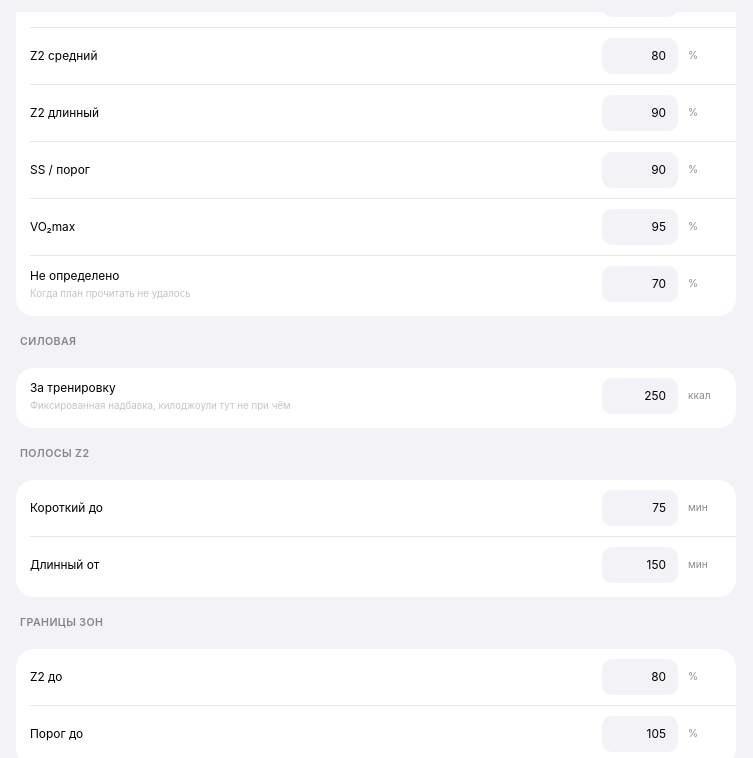
Test case: the preview › follows the strength bonus
(page scrolled)
Replace the text in the field named "За тренировку" with "400" at (640, 396), box left=602, top=378, right=678, bottom=414
(page scrolled)
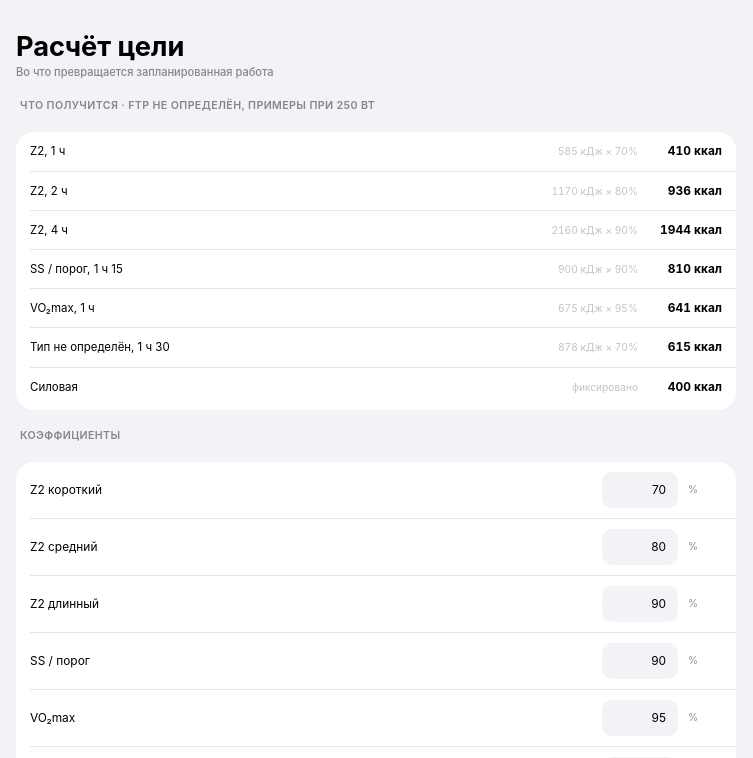
Check: the text "400 ккал" is shown, box left=668, top=379, right=722, bottom=394
